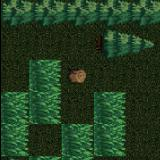Obstacle: (0, 0, 160, 28), (92, 28, 124, 60), (62, 60, 93, 92)
Slow: (29, 60, 61, 124), (94, 92, 125, 157), (0, 92, 28, 157), (61, 124, 93, 160)
